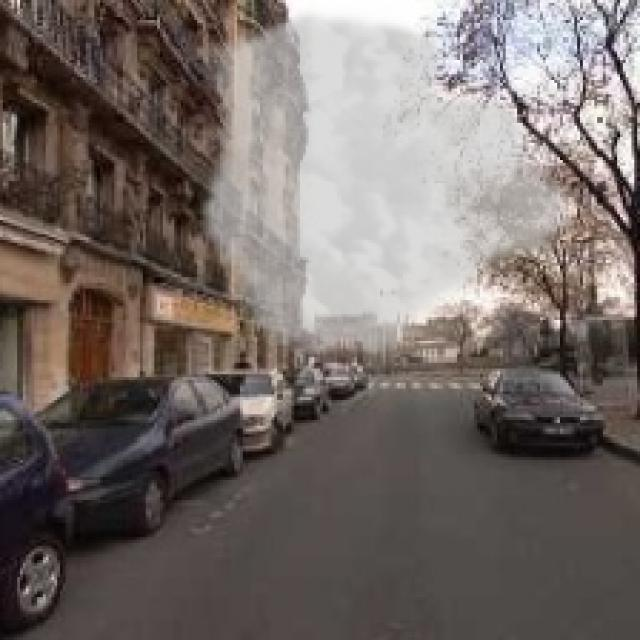smoke: (194, 6, 580, 368)
